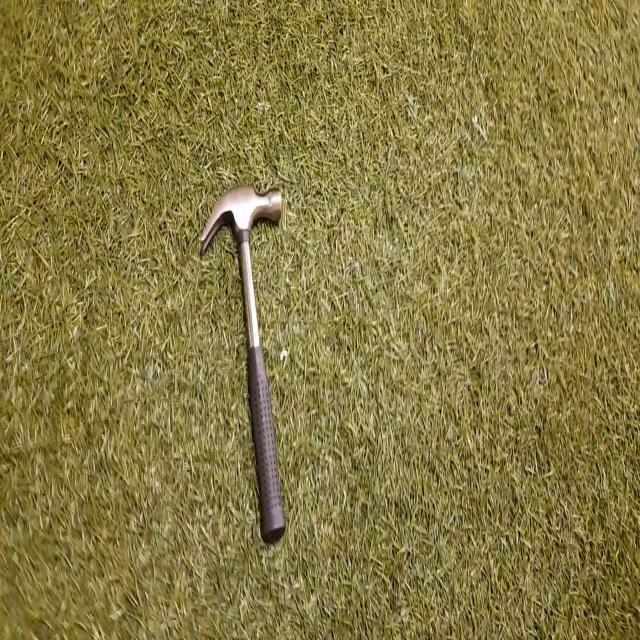hammer: (199, 184, 286, 540)
